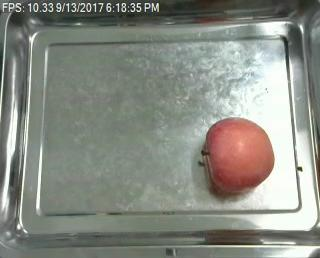apple: (202, 117, 276, 194)
